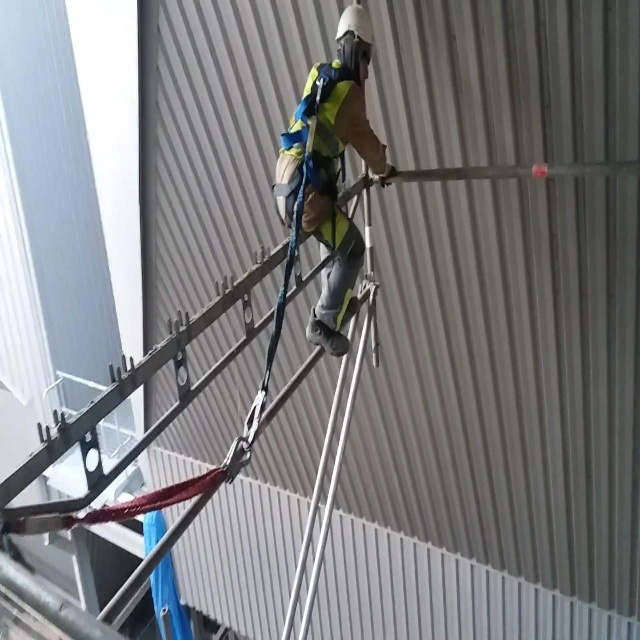Arnes_seguridad: (272, 42, 358, 251)
